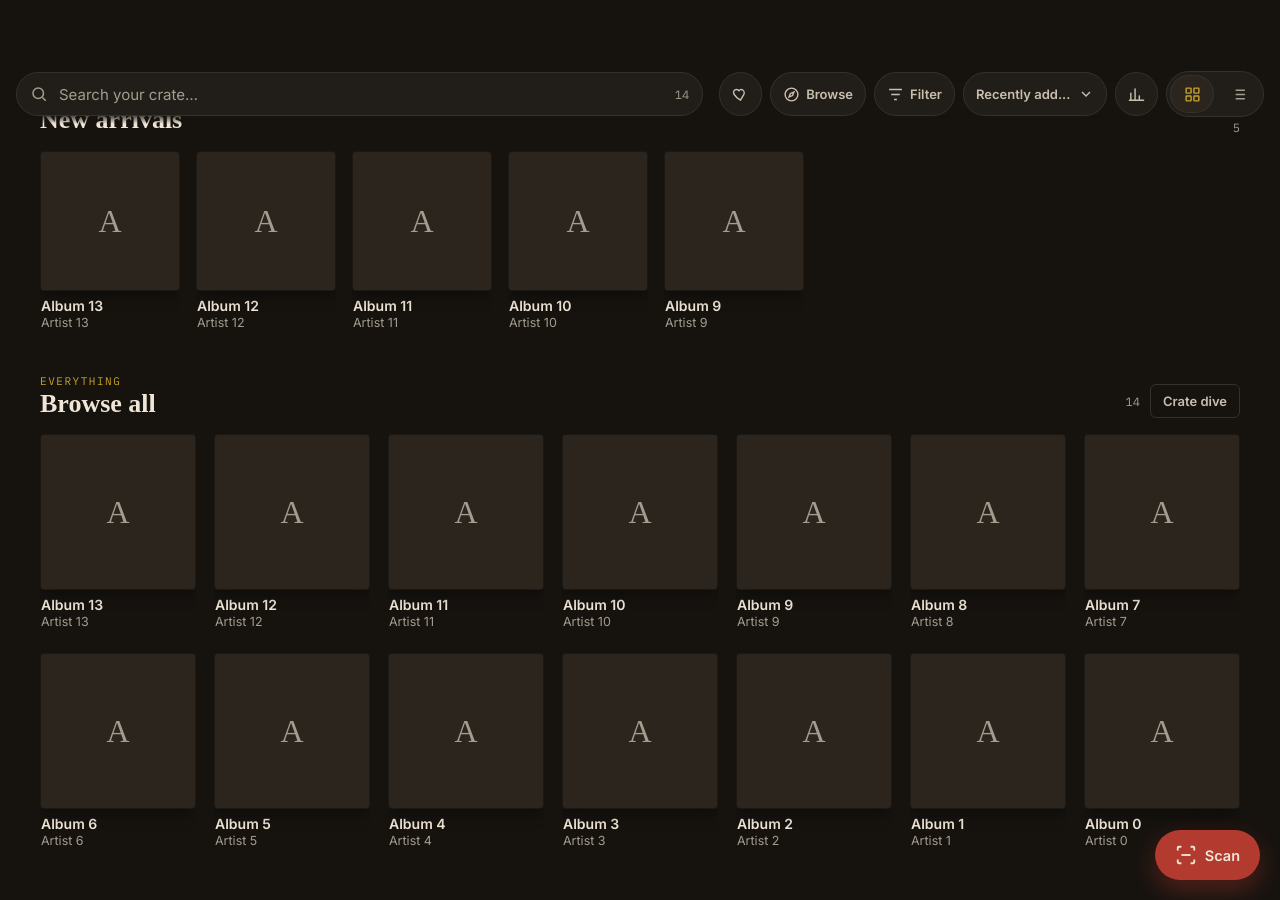
Test: CollectionView — The Floor (§ Phase 1) › hides the Floor when a search query is active (flat results instead)
Expected: the heading "New arrivals" is shown, [40, 106, 182, 135]
Type "Album 3" into the field with placeholder "Search your crate…" at (360, 94), box [16, 72, 703, 116]
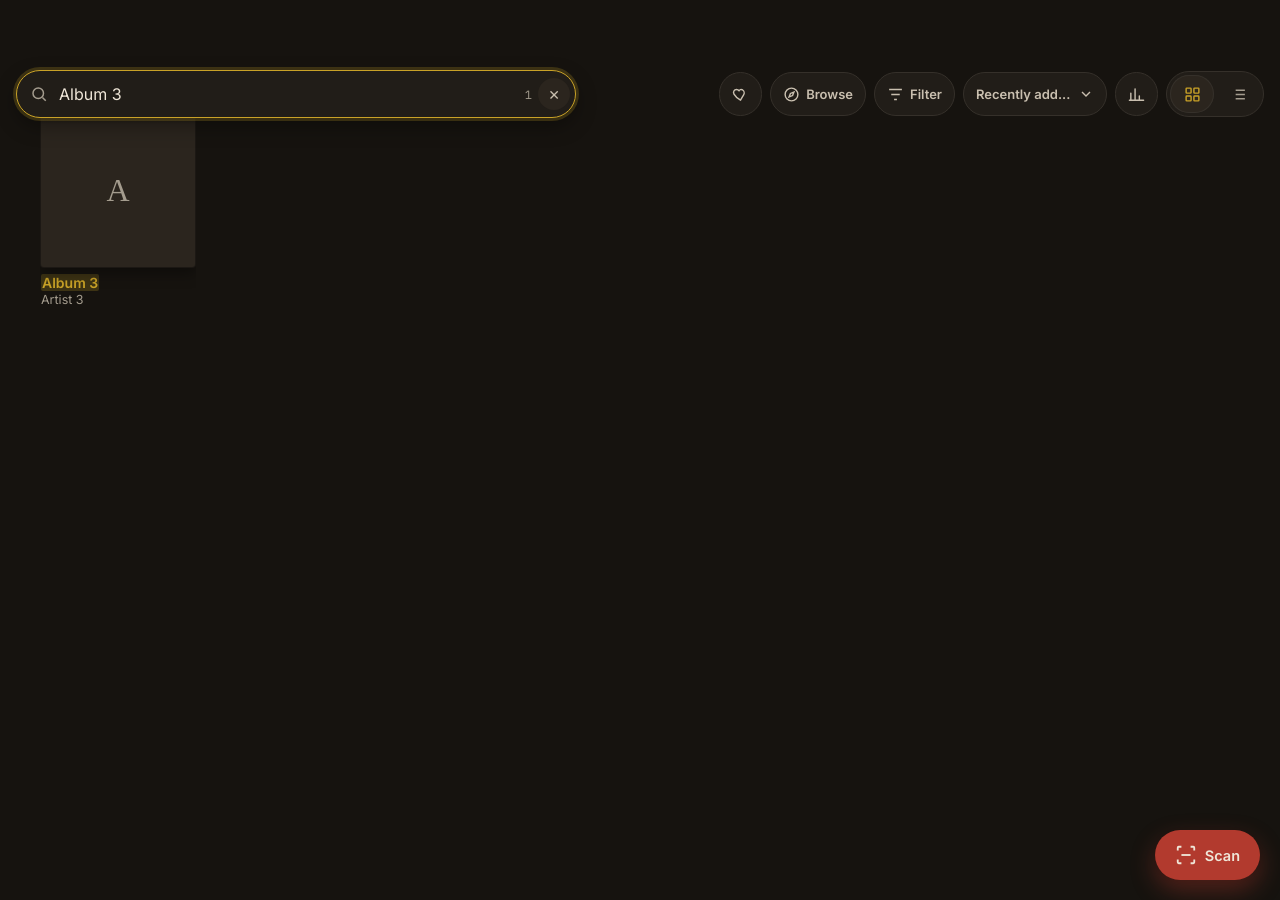
Now the heading "New arrivals" is gone
Now the number of buttons with class "album-card" is 1, box [40, 112, 196, 307]
